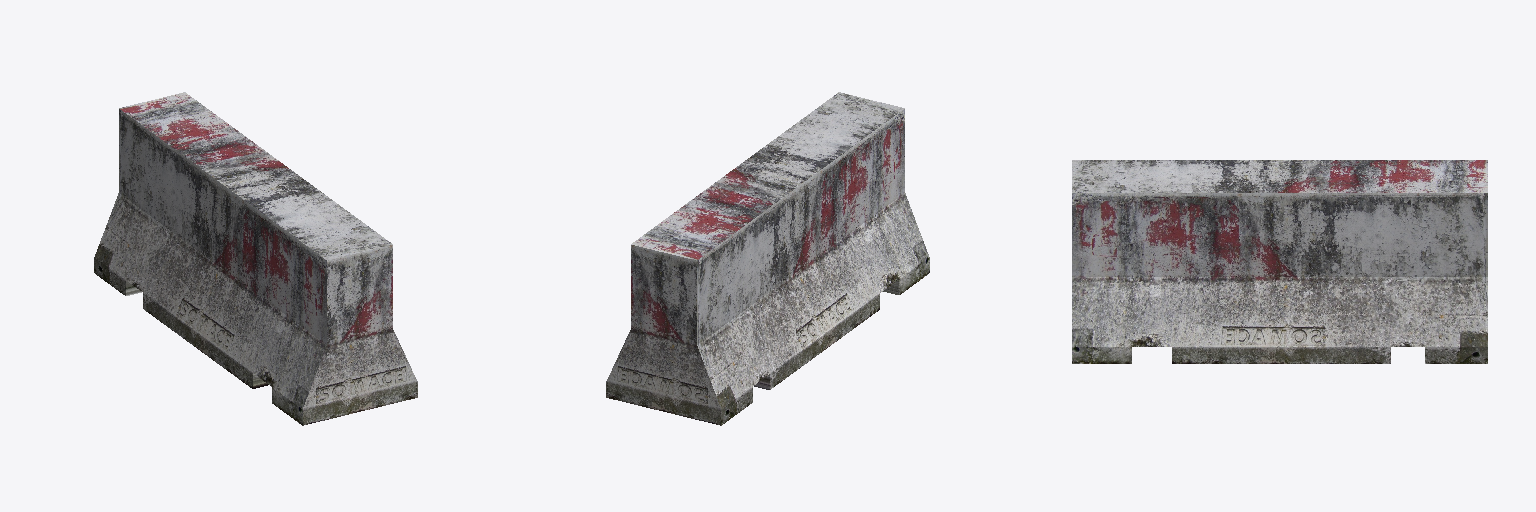
The picture shows the model from 3 angles: view 1: azimuth 30°, elevation 25°; view 2: azimuth 150°, elevation 25°; view 3: azimuth 270°, elevation 25°; orthographic projection.
Visible parts, largest first — view 1: barreira2; view 2: barreira2; view 3: barreira2.
Part boxes in pixels (left/top/right/bottom): barreira2: left=94, top=92, right=417, bottom=425; barreira2: left=606, top=92, right=929, bottom=425; barreira2: left=1072, top=160, right=1487, bottom=363.
Bounding box in the file's own units: 0.1593 × 0.2109 × 0.4998.
Materials: 1 (1 with a texture image).